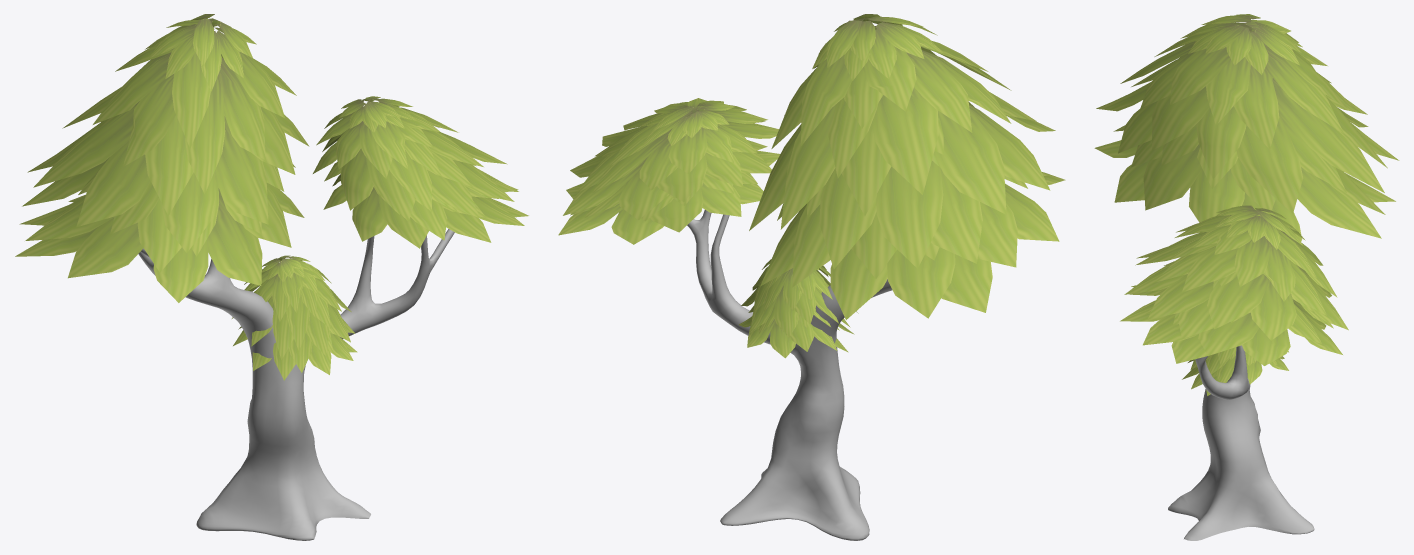
The model's file is tree1.fbx.
3 views of the same model, side by side, from view 1: azimuth 30°, elevation 25°; view 2: azimuth 150°, elevation 25°; view 3: azimuth 270°, elevation 25° (orthographic). The views are drawn at different scales.
Parts seen in each view (by area): view 1: Plane.015; view 2: Plane.015; view 3: Plane.015.
Boxes of the visible parts, x1=… form: Plane.015: x1=15, y1=14, x2=528, y2=540; Plane.015: x1=558, y1=14, x2=1065, y2=540; Plane.015: x1=1094, y1=14, x2=1399, y2=540.
Size of the model in its own units: 419 by 450 by 265.
